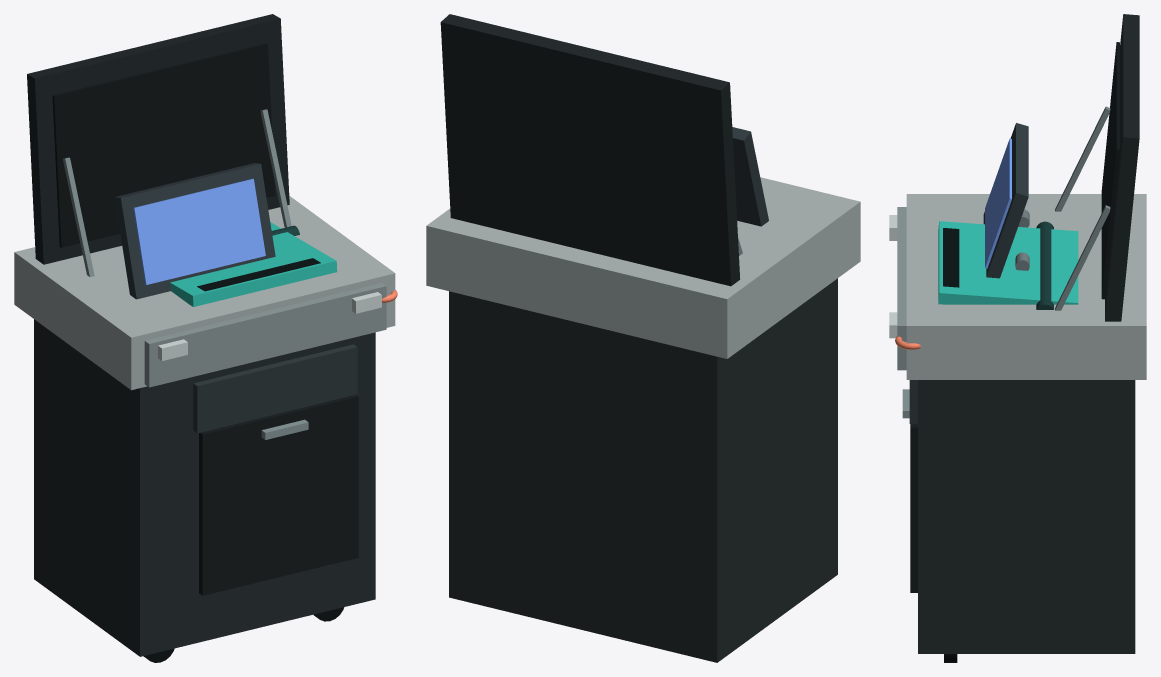
File: orthographic-pilot.glb
3 renders of one model, left to right at view 1: azimuth 30°, elevation 25°; view 2: azimuth 150°, elevation 25°; view 3: azimuth 270°, elevation 25°, orthographic. The views are drawn at different scales.
Parts seen in each view (by area): view 1: DS200_Cabinet_Body, DS200_Lid_Inner_Panel, DS200_Main_Compartment_Door, DS200_Scanner_Deck, DS200_Protective_Lid, DS200_Deck_Front_Fascia, DS200_Display_Surface, DS200_Auxiliary_Door, DS200_Display_Bezel, DS200_Ballot_Input_Tray, DS200_Lid_Strut_1, DS200_Lid_Strut_2 (+1 smaller); view 2: DS200_Cabinet_Body, DS200_Protective_Lid, DS200_Scanner_Deck, DS200_Display_Bezel; view 3: DS200_Cabinet_Body, DS200_Scanner_Deck, DS200_Ballot_Input_Tray, DS200_Protective_Lid, DS200_Display_Bezel, DS200_Lid_Inner_Panel, DS200_Display_Surface, DS200_Deck_Front_Fascia, DS200_Main_Compartment_Door, DS200_Ballot_Slot, DS200_Lid_Strut_2, DS200_Lid_Strut_1 (+3 smaller).
Part boxes in pixels (x1,y1,x2,y2): DS200_Cabinet_Body: [34, 319, 375, 656]; DS200_Lid_Inner_Panel: [52, 43, 275, 247]; DS200_Main_Compartment_Door: [199, 395, 358, 595]; DS200_Scanner_Deck: [14, 196, 395, 390]; DS200_Protective_Lid: [27, 14, 289, 264]; DS200_Deck_Front_Fascia: [144, 283, 386, 387]; DS200_Display_Surface: [133, 178, 265, 284]; DS200_Auxiliary_Door: [193, 344, 357, 433]; DS200_Display_Bezel: [114, 163, 275, 299]; DS200_Ballot_Input_Tray: [170, 222, 337, 306]; DS200_Lid_Strut_1: [63, 157, 94, 276]; DS200_Lid_Strut_2: [260, 109, 291, 227]; DS200_Cabinet_Body: [449, 278, 837, 662]; DS200_Protective_Lid: [440, 14, 740, 286]; DS200_Scanner_Deck: [426, 177, 860, 358]; DS200_Display_Bezel: [732, 127, 768, 226]; DS200_Cabinet_Body: [918, 380, 1135, 653]; DS200_Scanner_Deck: [906, 194, 1146, 379]; DS200_Ballot_Input_Tray: [938, 221, 1078, 304]; DS200_Protective_Lid: [1105, 14, 1139, 321]; DS200_Display_Bezel: [983, 123, 1028, 278]; DS200_Lid_Inner_Panel: [1101, 42, 1119, 299]; DS200_Display_Surface: [985, 138, 1011, 268]; DS200_Deck_Front_Fascia: [897, 207, 906, 370]; DS200_Main_Compartment_Door: [910, 424, 917, 592]; DS200_Ballot_Slot: [943, 228, 959, 287]; DS200_Lid_Strut_2: [1055, 205, 1110, 310]; DS200_Lid_Strut_1: [1055, 106, 1110, 211].
Bounding box in the file's own units: 3.08 × 5.84 × 2.51.
